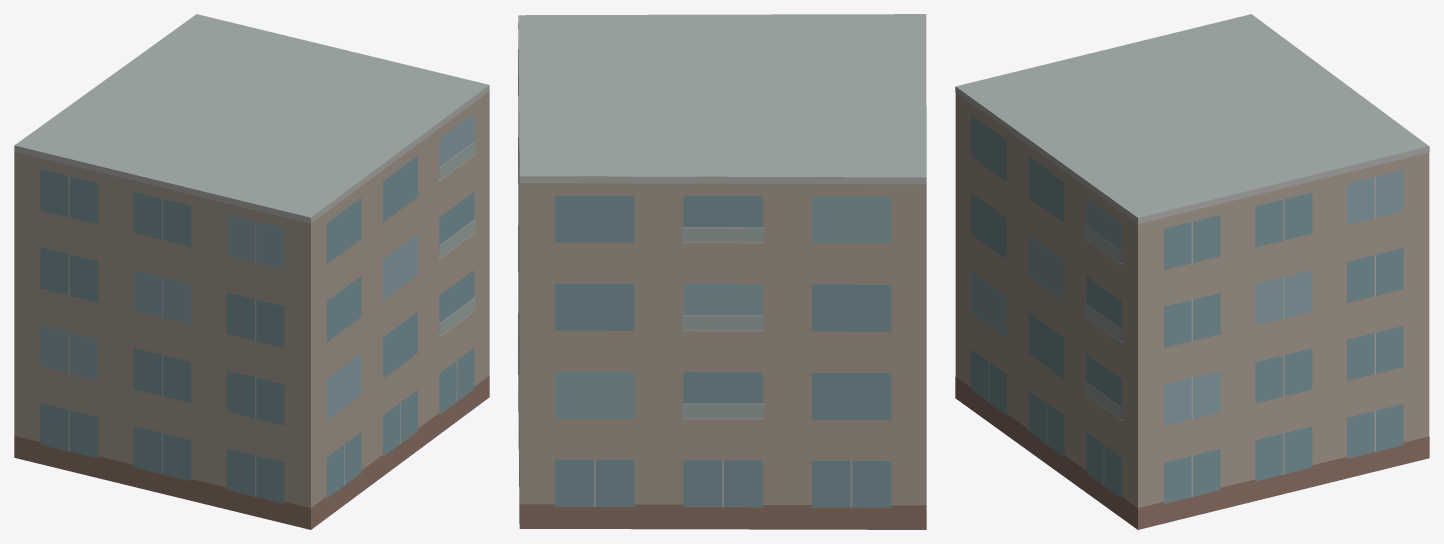
Rendered from survey-upis-33025185.glb.
3 views of the same model, side by side, from view 1: azimuth 30°, elevation 25°; view 2: azimuth 150°, elevation 25°; view 3: azimuth 270°, elevation 25° (orthographic). The views are drawn at different scales.
Visible parts, largest first — view 1: survey-upis-33025185.tmp; view 2: survey-upis-33025185.tmp; view 3: survey-upis-33025185.tmp.
Boxes of the visible parts, x1,y1,x2,y2 form: survey-upis-33025185.tmp: (14, 14, 489, 529); survey-upis-33025185.tmp: (518, 14, 926, 529); survey-upis-33025185.tmp: (955, 14, 1429, 529).
Bounding box in the file's own units: 17.33 × 12.35 × 17.02.
